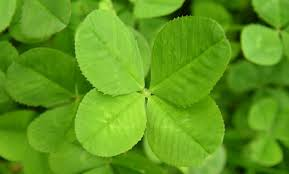4-clover: (74, 8, 230, 164)
